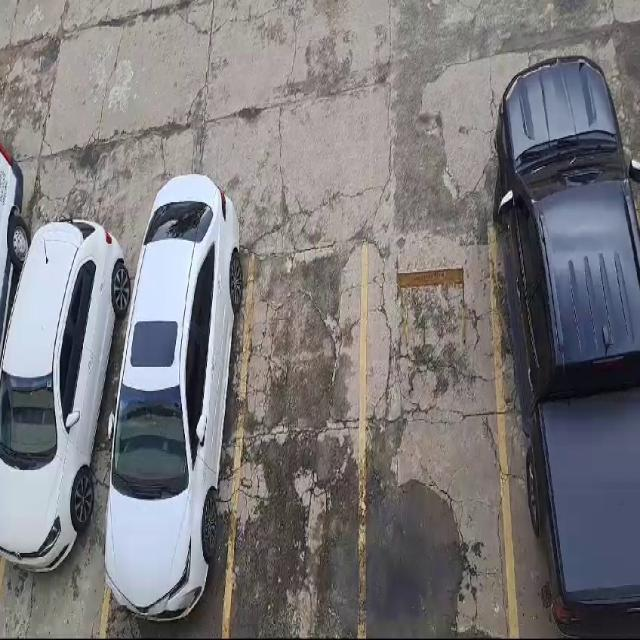empty: (361, 229, 515, 635), (222, 249, 367, 636)
notEmpty: (491, 198, 639, 636), (101, 254, 252, 633), (0, 252, 145, 633)
